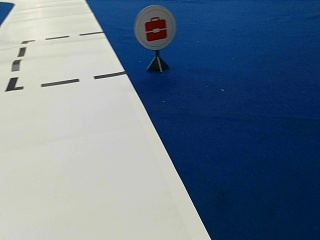company: (134, 5, 177, 49)
